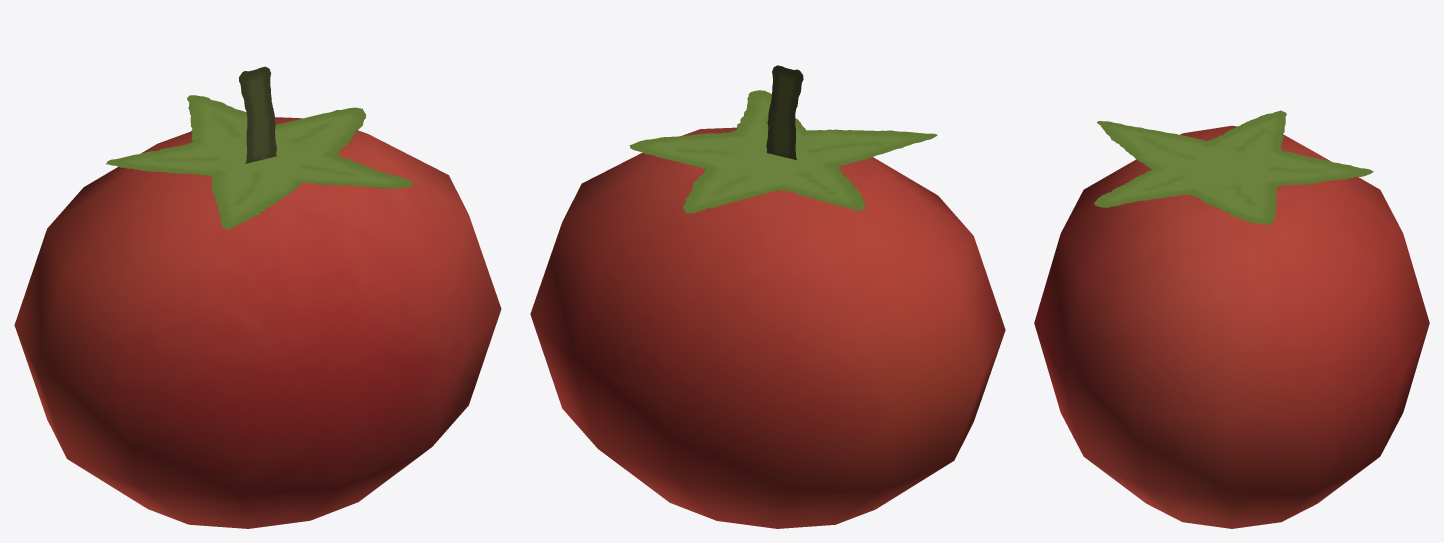
File: Tomato.fbx
3 renders of one model, left to right at view 1: azimuth 30°, elevation 25°; view 2: azimuth 150°, elevation 25°; view 3: azimuth 270°, elevation 25°, orthographic. The views are drawn at different scales.
Visible parts, largest first — view 1: Tomato; view 2: Tomato; view 3: Tomato.
Part boxes in pixels (x1,y1,x2,y2): Tomato: (14, 66, 501, 528); Tomato: (530, 65, 1005, 528); Tomato: (1034, 110, 1429, 528).
Size of the model in its own units: 29.71 by 31.08 by 24.55.
